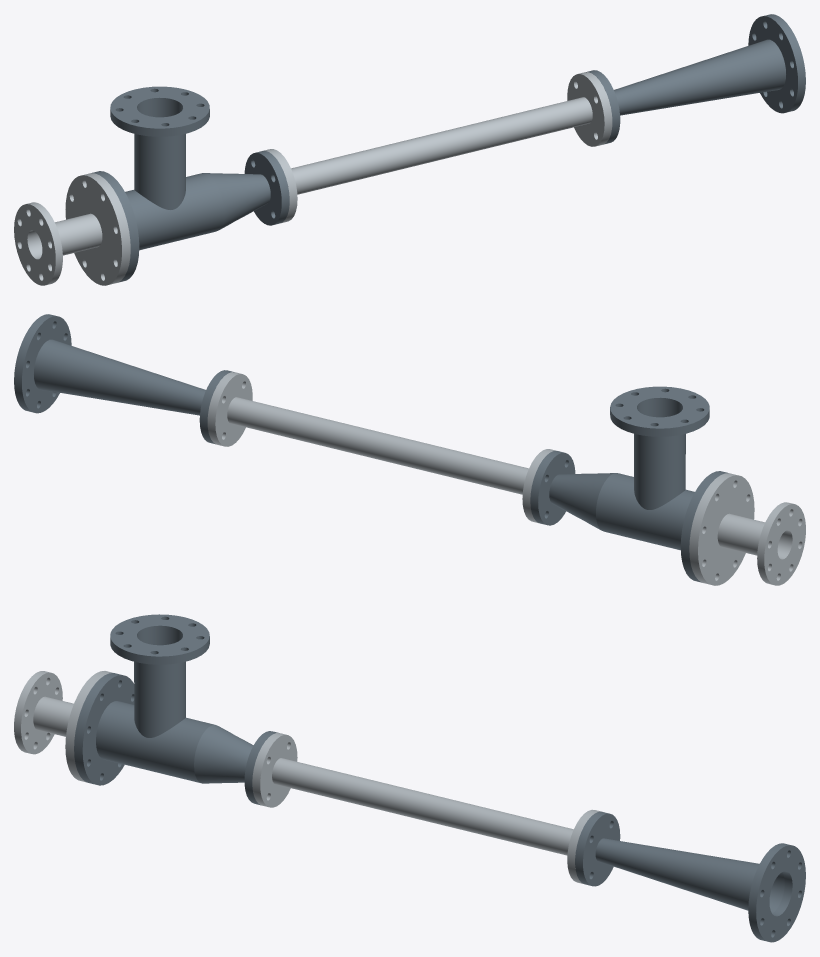
File: ejector.glb
The picture shows the model from 3 angles, top to bottom: view 1: azimuth 30°, elevation 25°; view 2: azimuth 150°, elevation 25°; view 3: azimuth 330°, elevation 25°; orthographic projection.
Visible parts, largest first — view 1: chamber, throat, diffuser, nozzle; view 2: chamber, throat, diffuser, nozzle; view 3: chamber, diffuser, throat, nozzle.
Part boxes in pixels (x1,y1,x2,y2): chamber: (92,86,289,282); throat: (263,72,612,223); diffuser: (586,14,805,144); nozzle: (14,173,130,285); chamber: (530,386,727,582); throat: (207,372,556,523); diffuser: (14,314,234,444); nozzle: (689,473,805,585); chamber: (74,614,278,805); diffuser: (575,811,805,942); throat: (252,733,600,883); nozzle: (14,671,112,782).
Bounding box in the file's own units: 1.9 × 0.3846 × 0.25.
